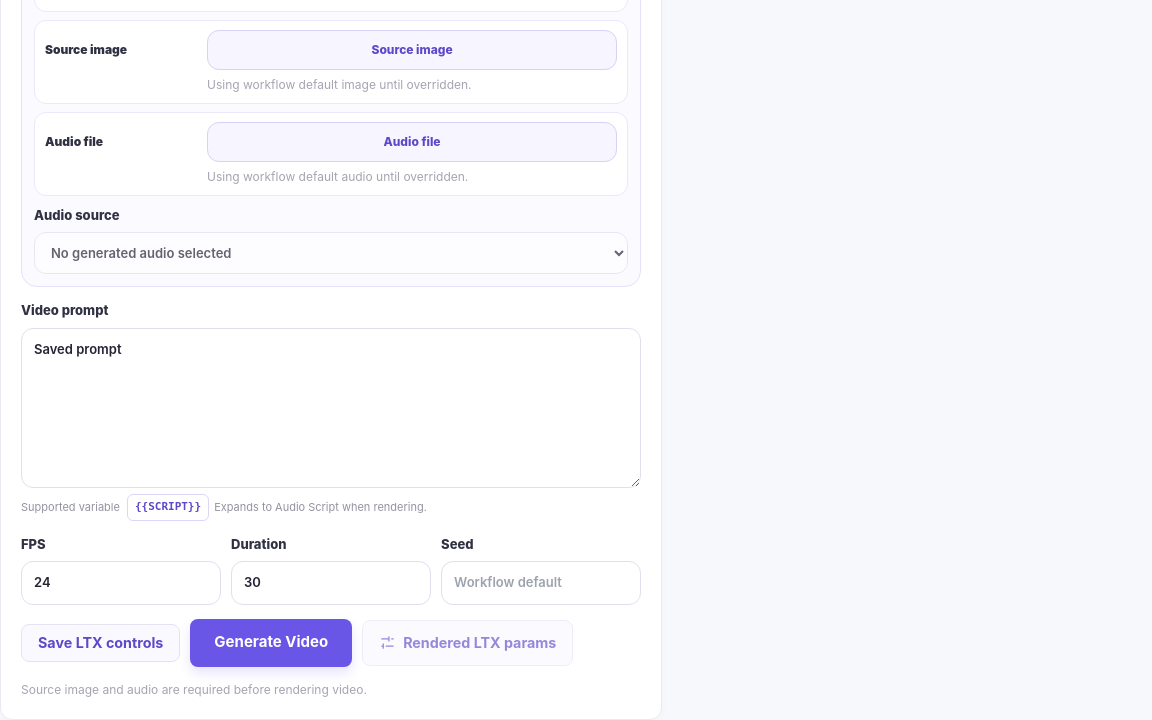
Test: CreateVideoPanel › requires source image and audio before generating video
The image size is (1152, 720).
(page scrolled)
Step 1. Click the button "Generate Video" → [271, 642], box [190, 618, 352, 666]
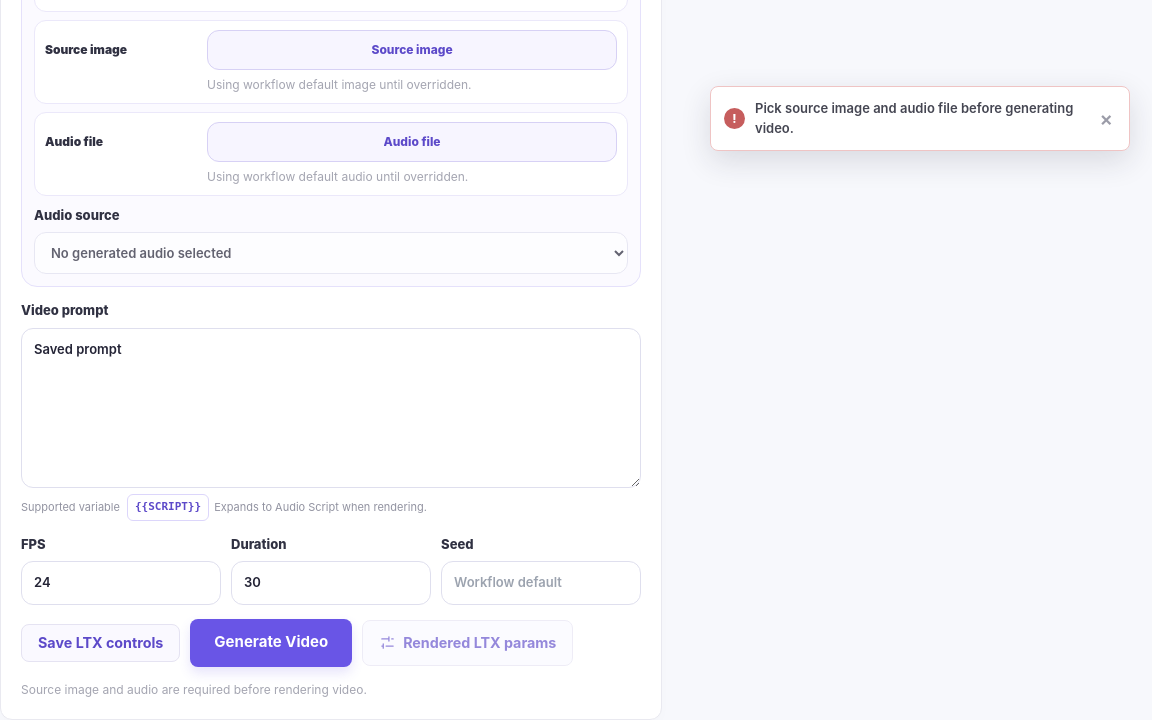
Check: the text "Pick source image and audio file before generating video." is shown, box [755, 99, 1086, 138]
